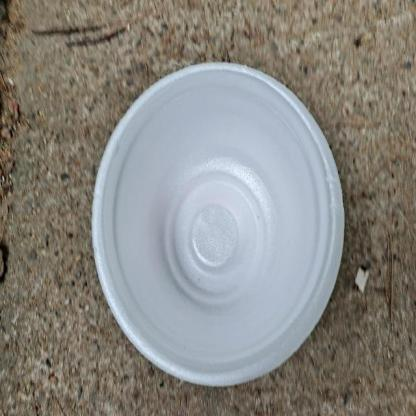Glass Cup: (90, 59, 346, 388), (92, 62, 344, 386)
